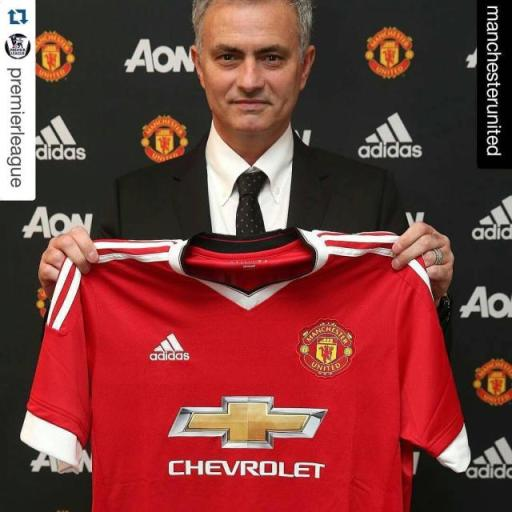Adidas: (356, 110, 423, 160)
